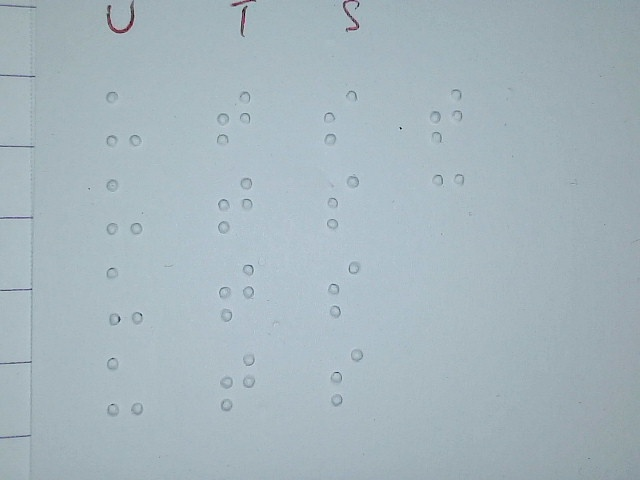S: (329, 347, 364, 406), (323, 88, 358, 146), (325, 172, 360, 230), (327, 260, 362, 318)
T: (218, 350, 256, 412), (217, 176, 254, 234), (218, 263, 255, 321), (216, 89, 251, 147)
U: (106, 265, 145, 326), (105, 355, 144, 416), (105, 90, 142, 148), (106, 176, 143, 234)
